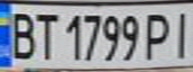1: (60, 10, 84, 61)
7: (78, 10, 103, 62)
9: (118, 10, 145, 62), (100, 11, 124, 62)
B: (3, 7, 39, 61)
I: (169, 7, 193, 60)
P: (142, 9, 175, 62)
T: (30, 9, 60, 61)
